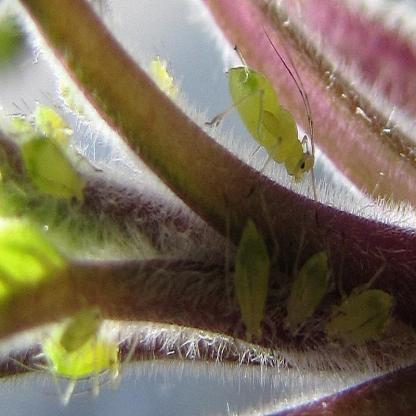aphid: (206, 40, 322, 190), (316, 252, 404, 366), (220, 206, 281, 353), (43, 289, 121, 385), (278, 225, 335, 352), (18, 131, 93, 225)
